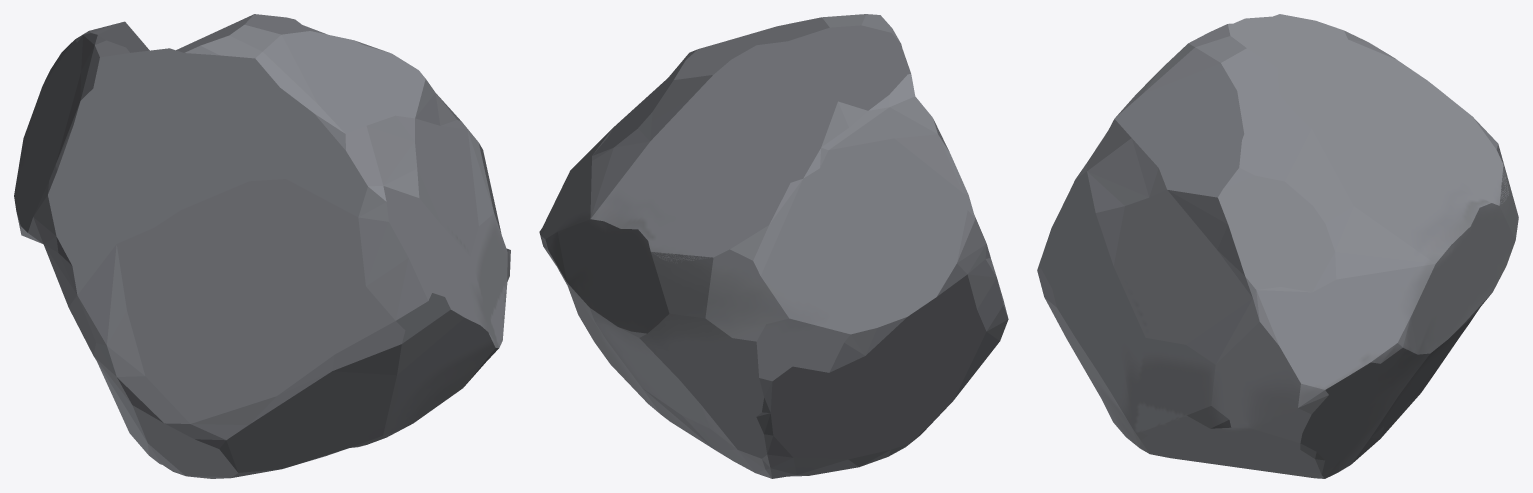
The model's file is Rock_2.fbx.
The picture shows the model from 3 angles, left to right: view 1: azimuth 30°, elevation 25°; view 2: azimuth 150°, elevation 25°; view 3: azimuth 270°, elevation 25°; orthographic projection. The views are drawn at different scales.
Parts seen in each view (by area): view 1: SmallRock; view 2: SmallRock; view 3: SmallRock.
Boxes of the visible parts, <box> form: SmallRock: <box>14,14,510,478</box>; SmallRock: <box>539,14,1008,478</box>; SmallRock: <box>1037,14,1518,478</box>.
Bounding box in the file's own units: 40.06 × 36.32 × 40.83.
